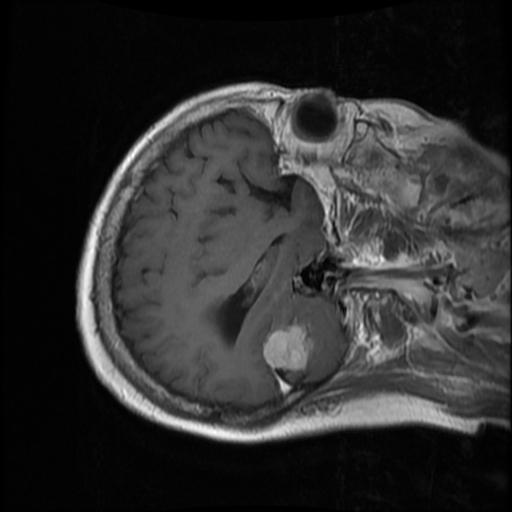meningioma: (260, 323, 309, 371)
